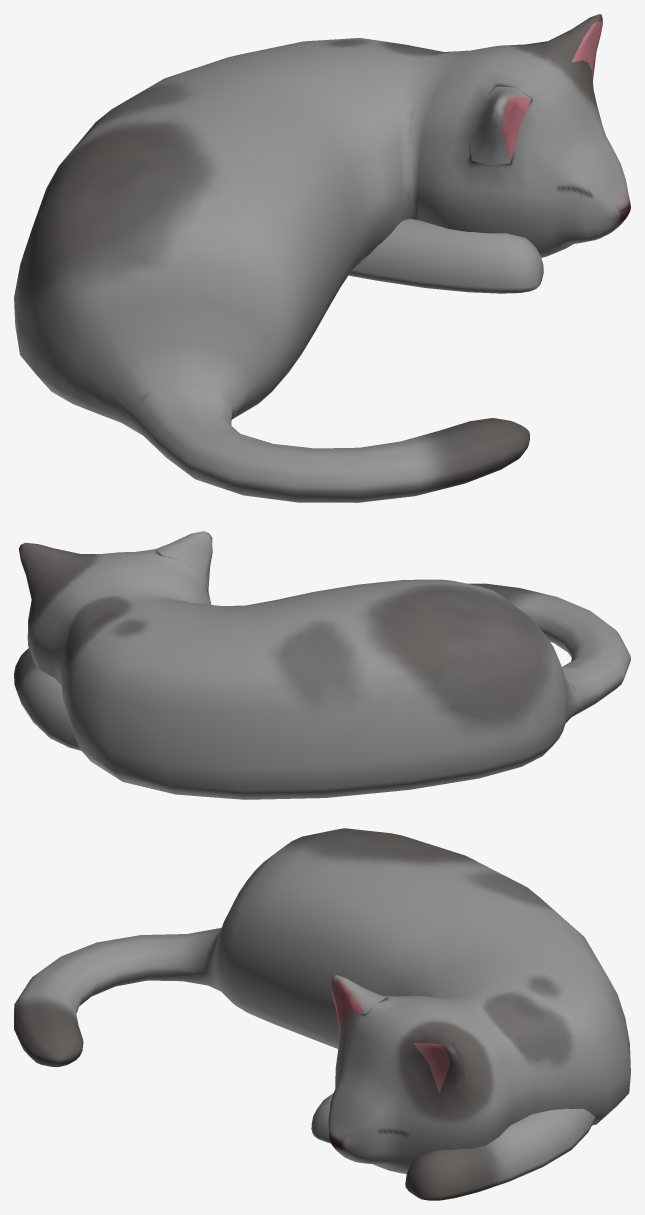
The model's file is cat.glb.
3 renders of one model, top to bottom at view 1: azimuth 30°, elevation 25°; view 2: azimuth 150°, elevation 25°; view 3: azimuth 270°, elevation 25°, orthographic. The views are drawn at different scales.
Parts seen in each view (by area): view 1: Cube.001; view 2: Cube.001; view 3: Cube.001.
Boxes of the visible parts, bbox=[...] form: Cube.001: bbox=[14, 14, 630, 502]; Cube.001: bbox=[14, 531, 630, 799]; Cube.001: bbox=[14, 828, 630, 1200].
Size of the model in its own units: 0.6376 by 0.1934 by 0.6395.
Materials: 1 (1 with a texture image).
